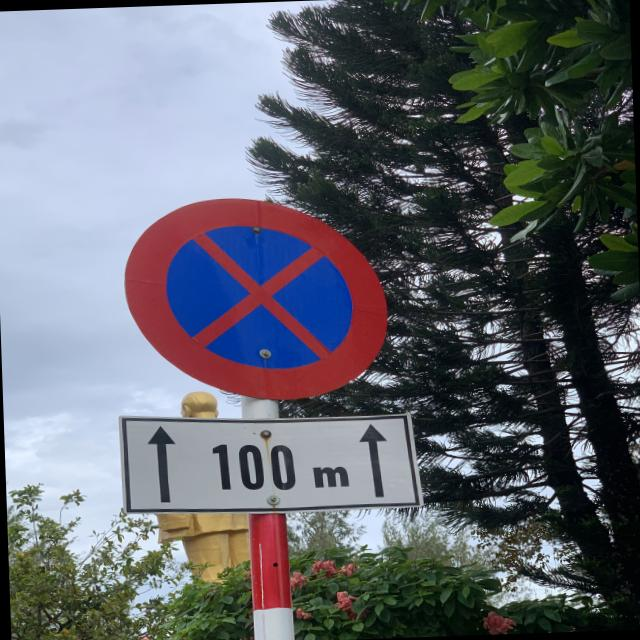Cam_Dung_Va_Dau_Xe: (121, 192, 391, 404)
